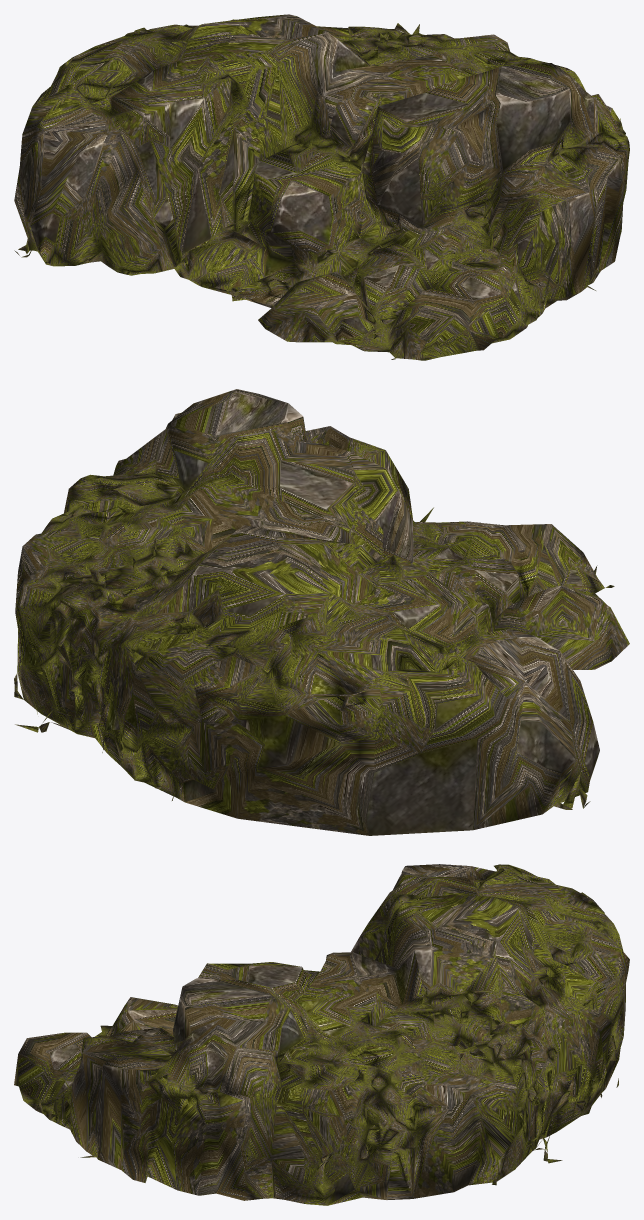
The model's file is rock_small_mid.glb.
3 views of the same model, one above another, from view 1: azimuth 30°, elevation 25°; view 2: azimuth 150°, elevation 25°; view 3: azimuth 270°, elevation 25° (orthographic). The views are drawn at different scales.
Bounding box in the file's own units: 1.73 × 0.5212 × 1.76.
Materials: 1 (1 with a texture image).
